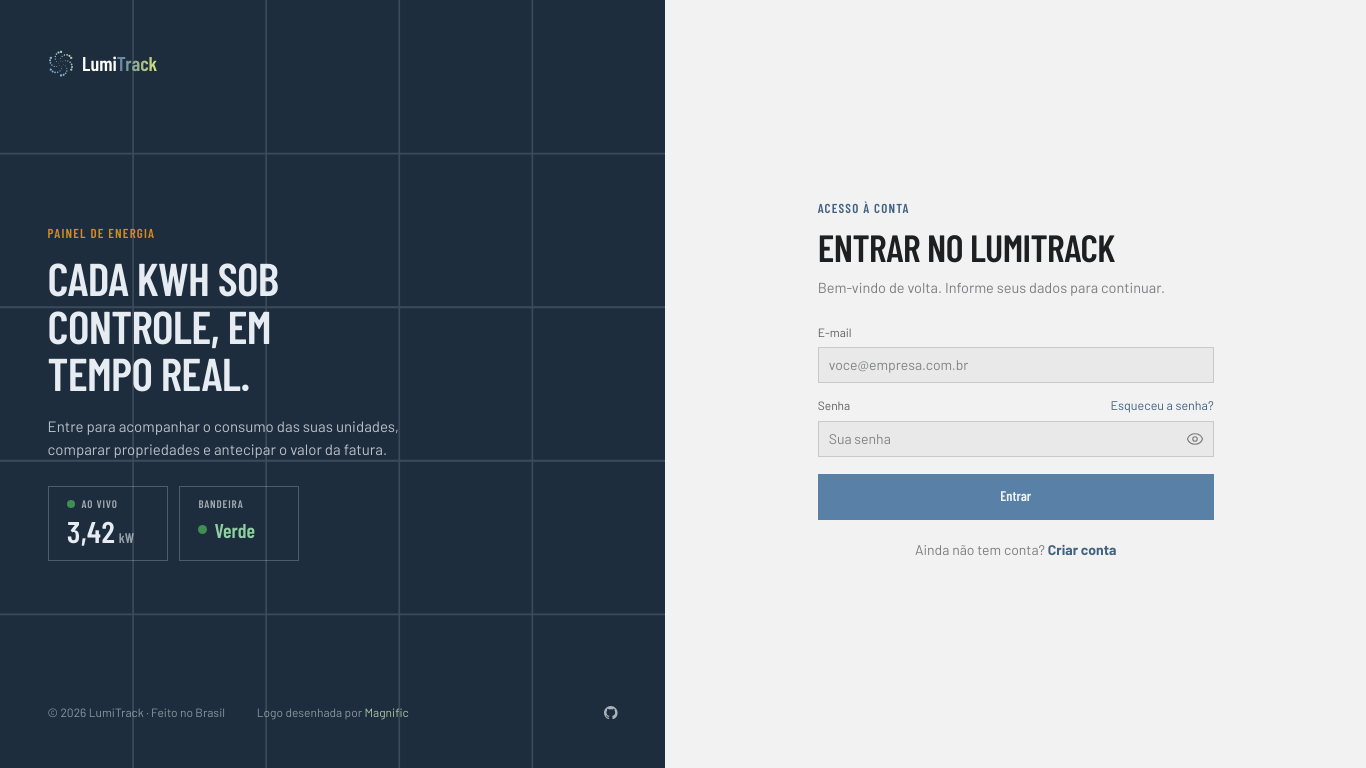
Test: LoginPage — MFA (segundo passo) › troca para o form de código quando o login responde mfaRequired
Type "test@example.com" into the field labelled "E-mail" at (1016, 365), box [818, 347, 1214, 383]
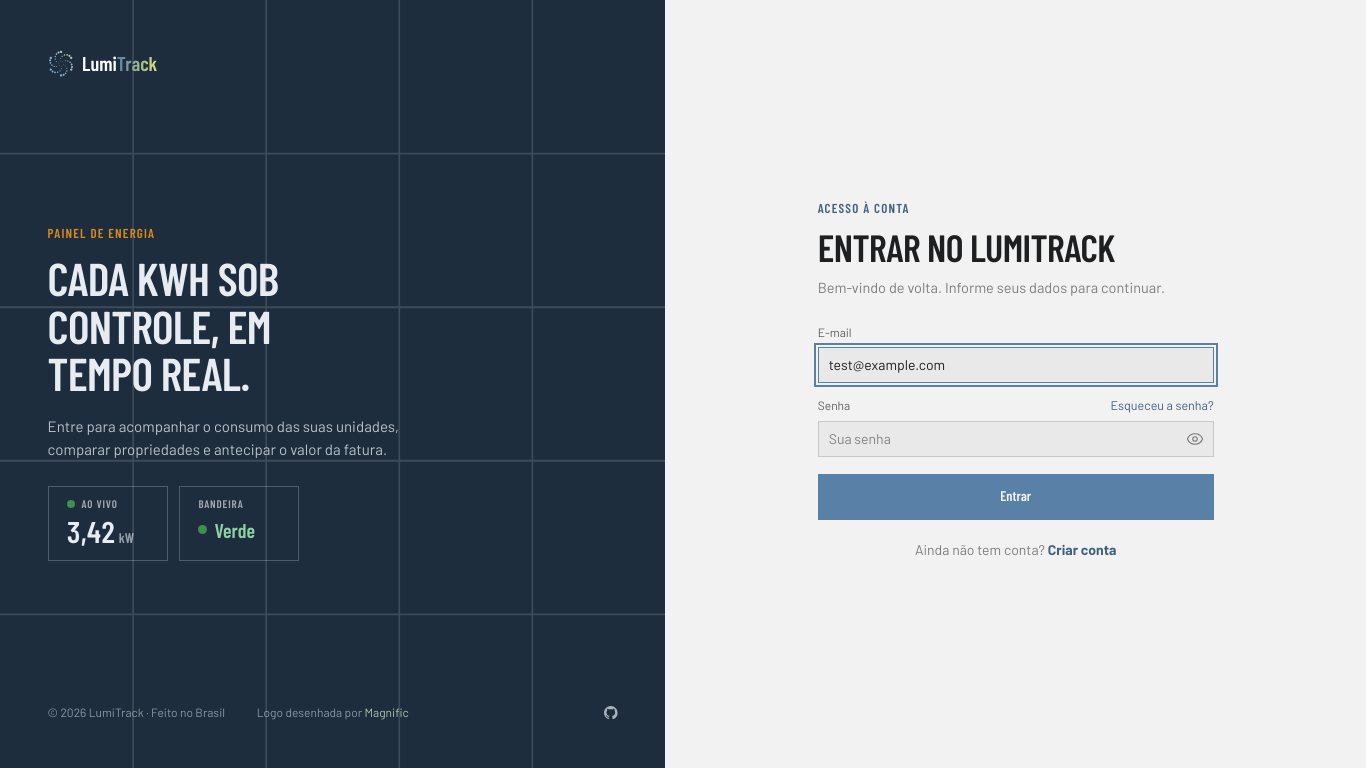
Type "Senha@123" into the password field labelled "Senha" at (1016, 439), box [818, 421, 1214, 457]
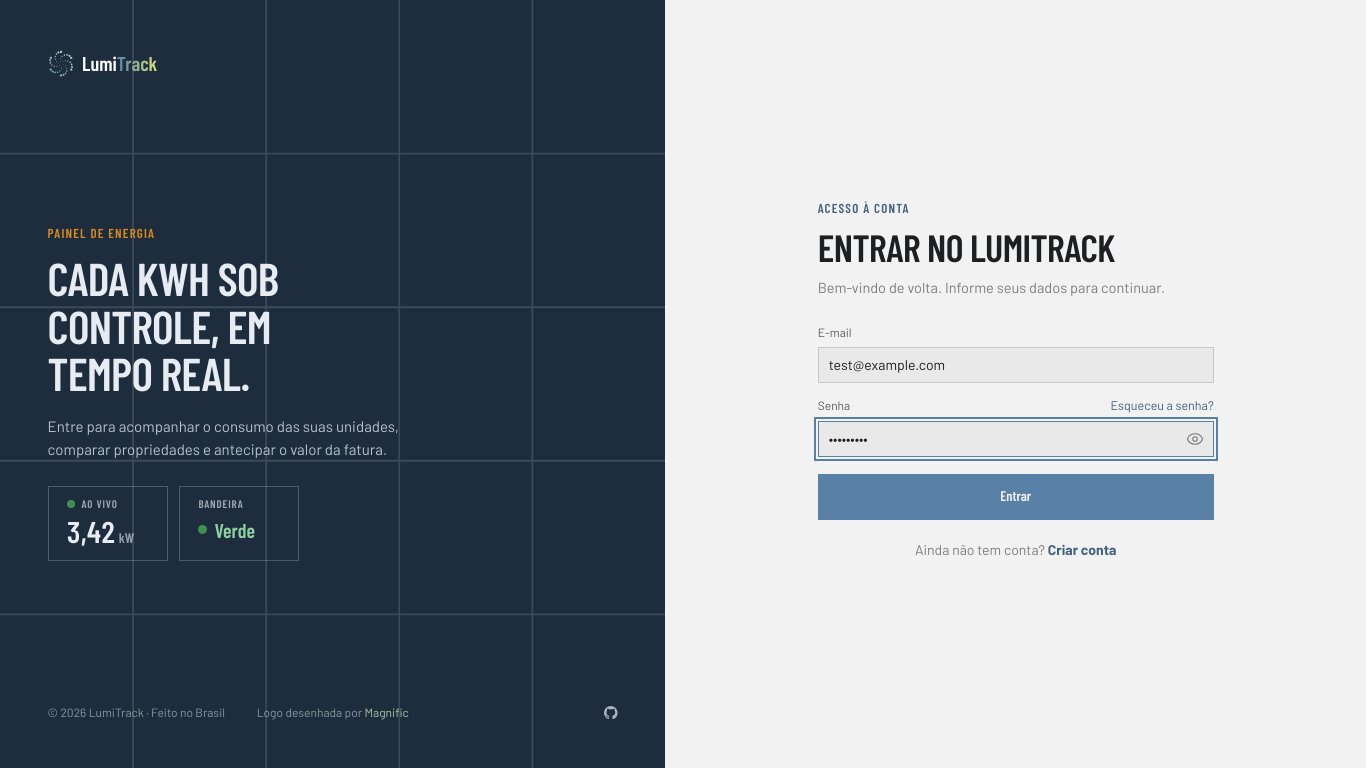
Click the button "Entrar" at (1016, 497), box [818, 474, 1214, 520]
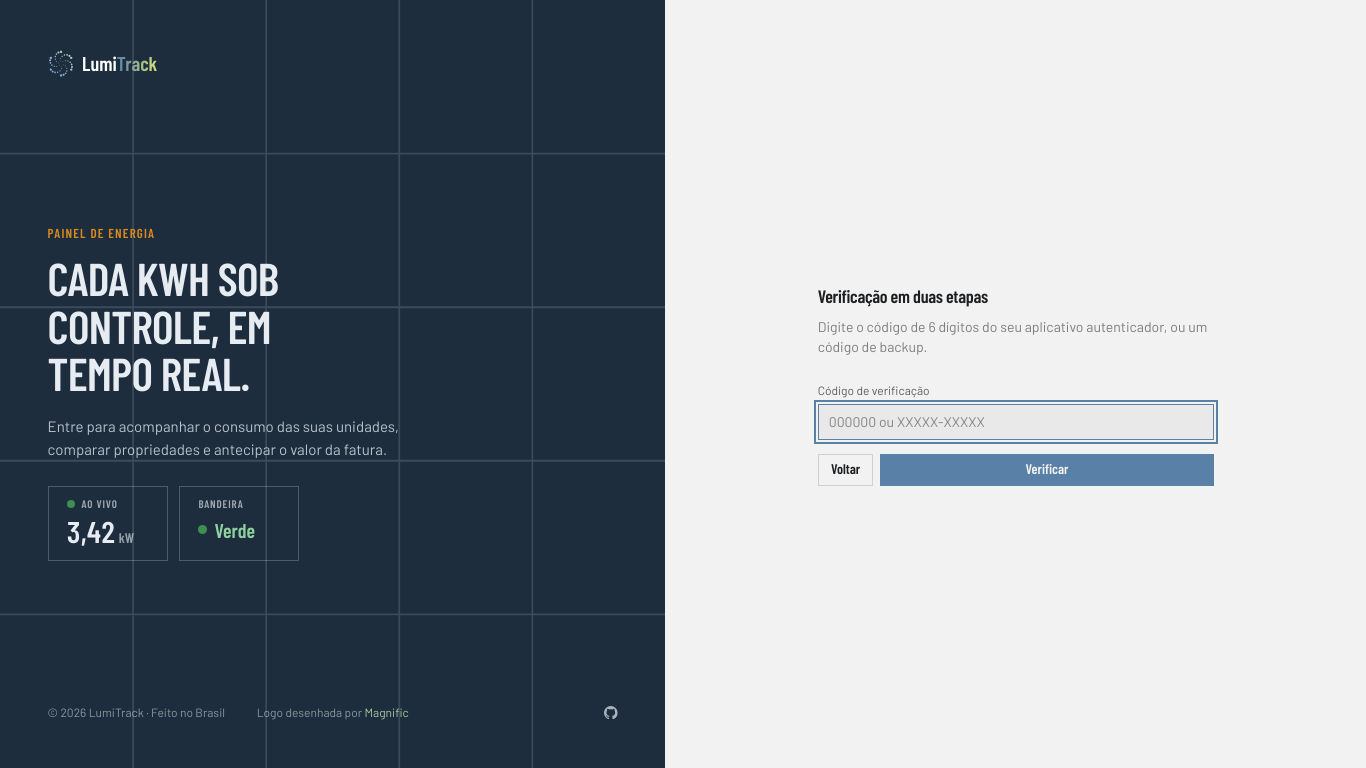
Expected: the heading "Verificação em duas etapas" is shown, [818, 285, 988, 307]
Expected: the field labelled "Código de verificação" is shown, [818, 404, 1214, 440]
